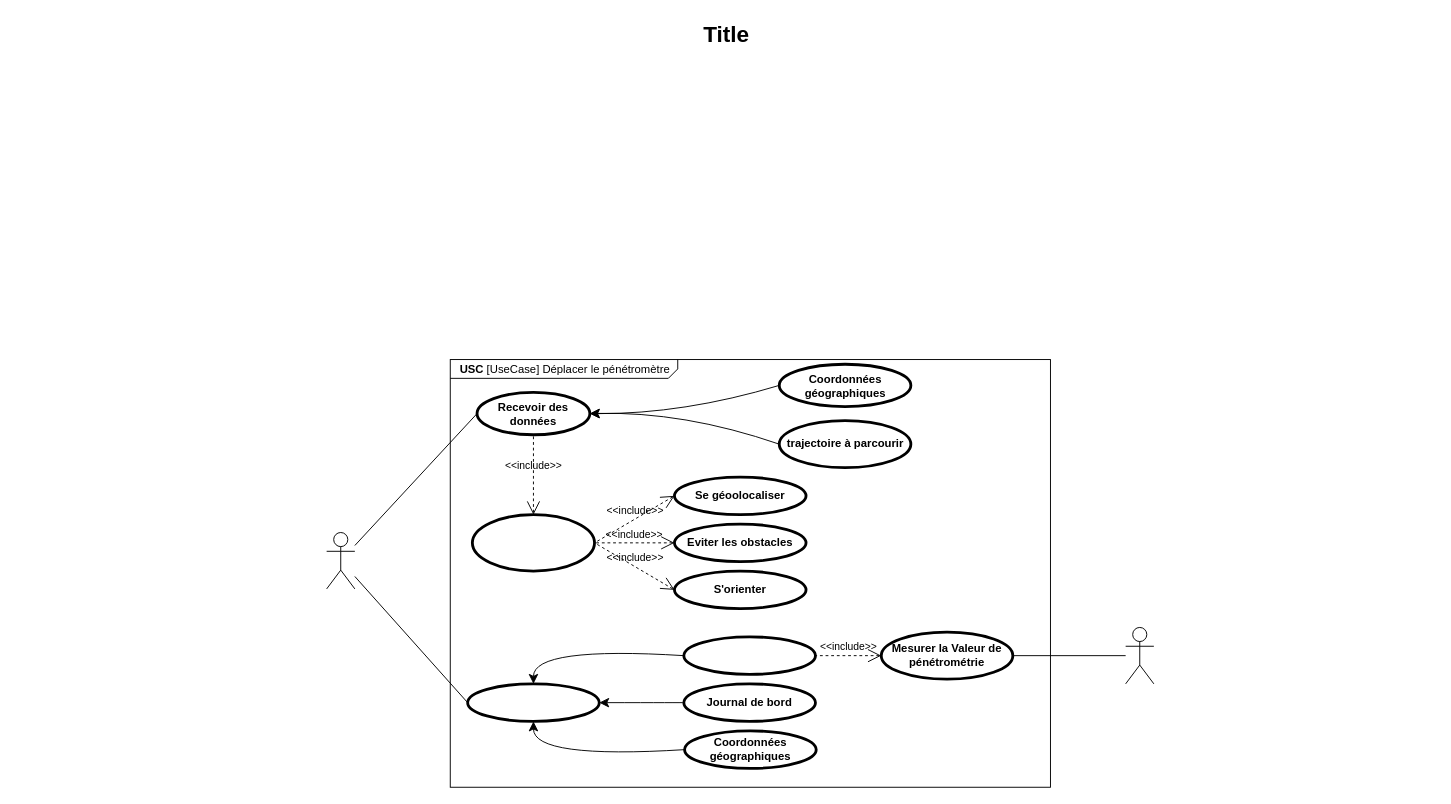
Image size: 1451x804. Some labels were removed from this diagram. The centre of each missing label's shape, as x and y in pixels:
"Piste" belongs at point 1139,655.
"Se déplacer en suivant une trajectoire" belongs at point 532,542.
"Station" belongs at point 340,560.
"Transmettre les données" belongs at point 533,702.
"Valeur de pénétrométrie" belongs at point 749,655.
